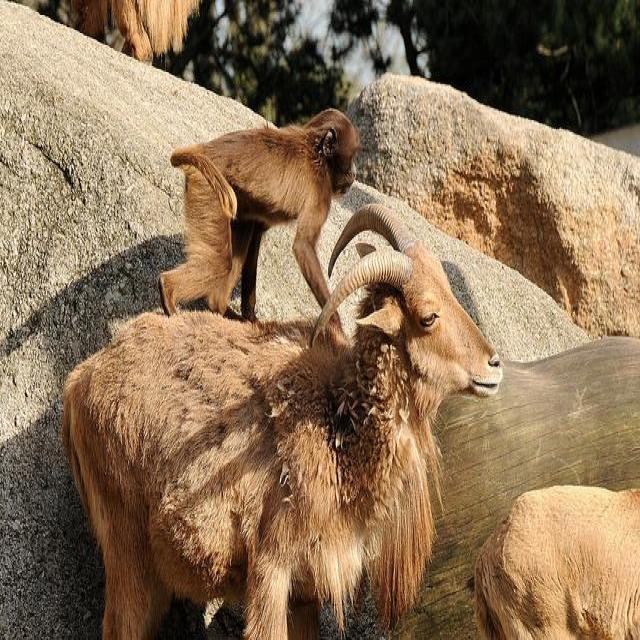Sheep: (64, 207, 504, 629), (469, 482, 639, 632)
